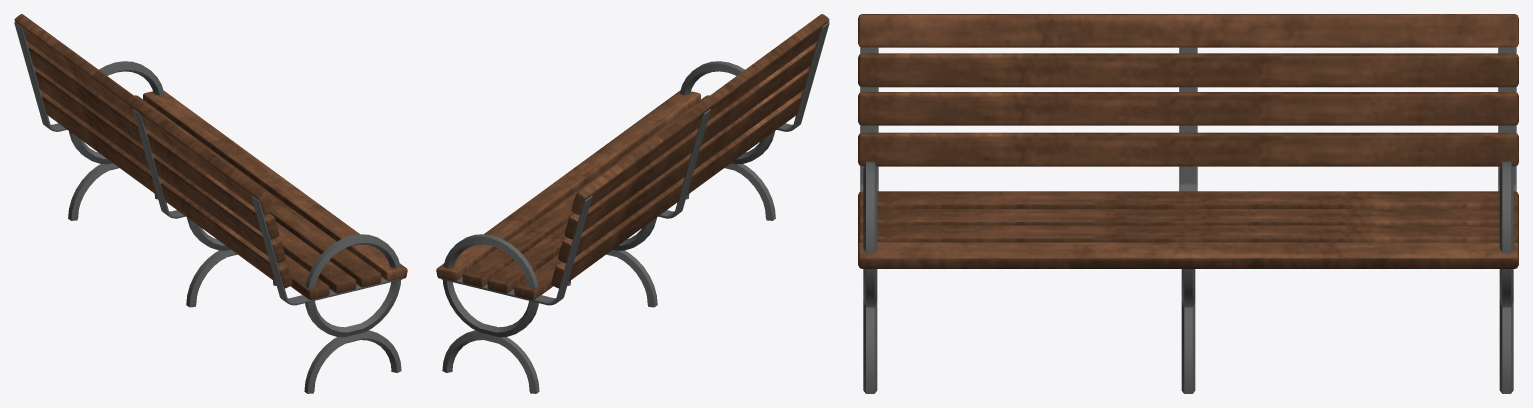
The model's file is obj_simple_park_bench_378cd6.glb.
3 views of the same model, side by side, from view 1: azimuth 30°, elevation 25°; view 2: azimuth 150°, elevation 25°; view 3: azimuth 270°, elevation 25° (orthographic). The views are drawn at different scales.
Parts seen in each view (by area): view 1: obj_simple_park_bench_378cd6; view 2: obj_simple_park_bench_378cd6; view 3: obj_simple_park_bench_378cd6.
Boxes of the visible parts, left/top/right/bottom form: obj_simple_park_bench_378cd6: left=14, top=14, right=407, bottom=393; obj_simple_park_bench_378cd6: left=436, top=14, right=829, bottom=393; obj_simple_park_bench_378cd6: left=858, top=14, right=1518, bottom=393.
Size of the model in its own units: 0.4243 by 0.5778 by 1.2.
1 material, 1 textured.
